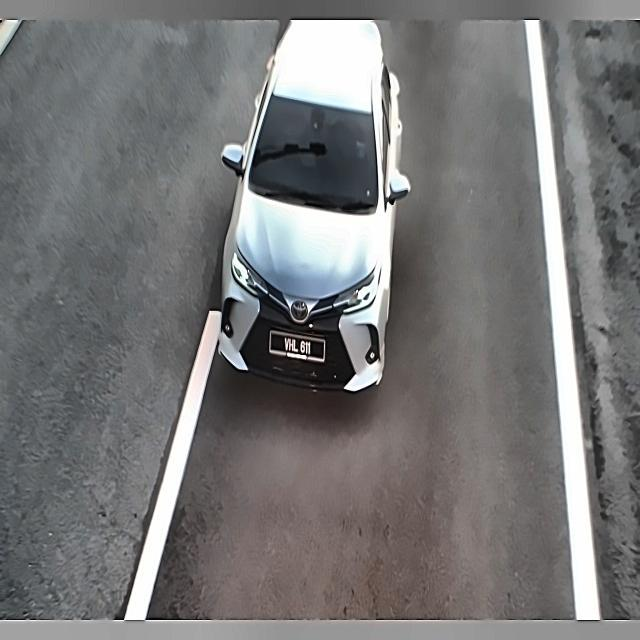car: (260, 328, 331, 368)
